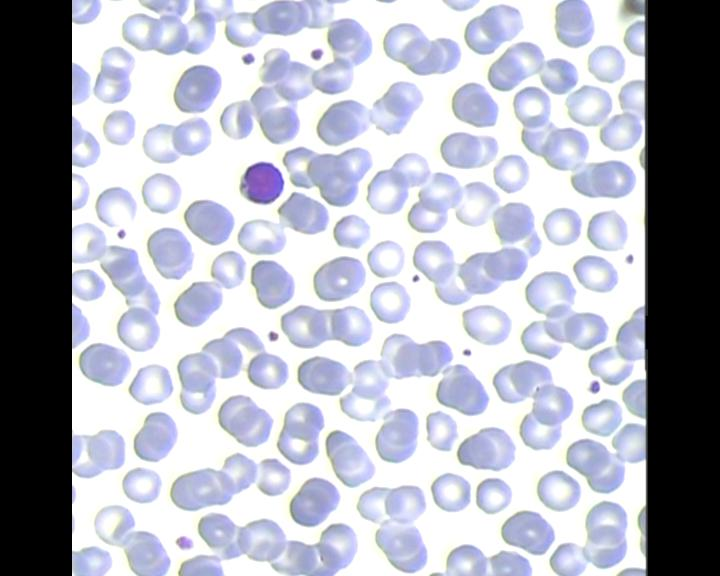lymp: (233, 157, 289, 205)
